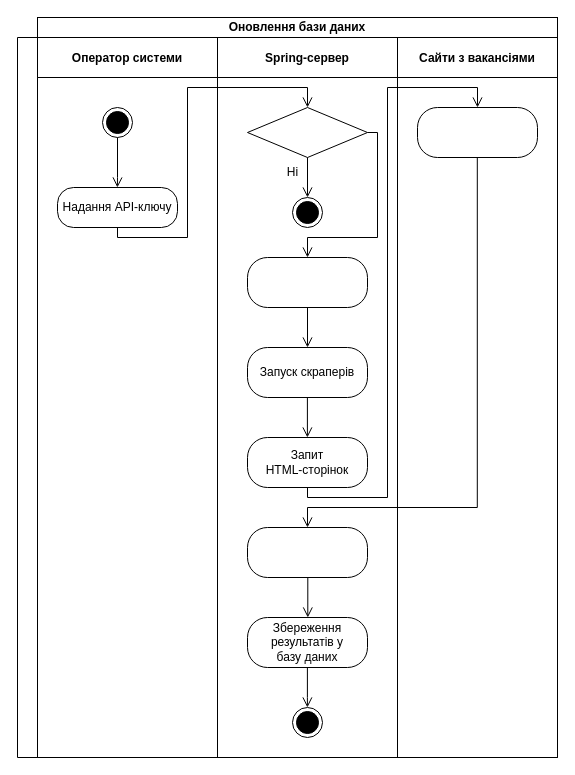
The diagram is 575 pixels wide and 775 high, and some of its shapes have lost their labels. Each missing label, with the centre of its shape:
"Валідний API-ключ?" belongs at (x=307, y=132).
"запит до моделі обробки мови" belongs at (x=477, y=132).
"Обробка HTML-сторінок" belongs at (x=307, y=552).
"Створення скраперів" belongs at (x=307, y=282).
